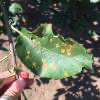Apple rust leaf: (13, 20, 97, 82)
